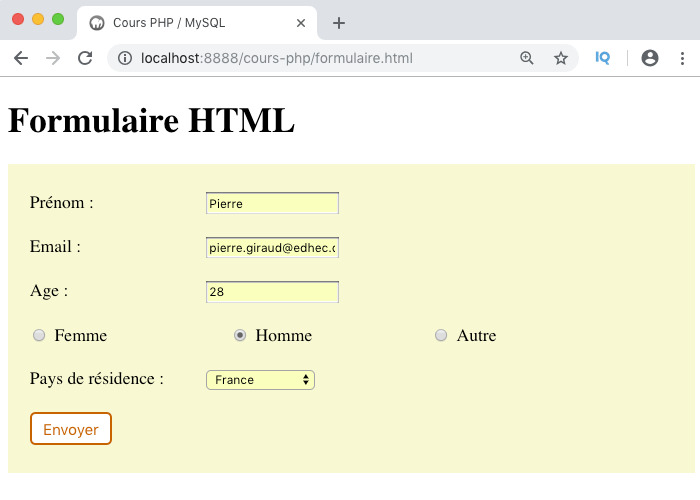_form_: (1, 84, 416, 500), (180, 154, 514, 407)
button: (28, 412, 115, 447)
field: (203, 279, 341, 305), (204, 191, 344, 215), (205, 236, 343, 260)
field_with_label: (31, 278, 344, 307), (30, 190, 347, 216), (30, 235, 346, 261), (29, 367, 320, 391)
radio: (231, 327, 246, 343), (433, 326, 447, 343), (32, 327, 47, 342)
radio_with_label: (228, 324, 312, 345), (29, 324, 108, 344), (429, 324, 496, 345)
select: (204, 369, 318, 390)
